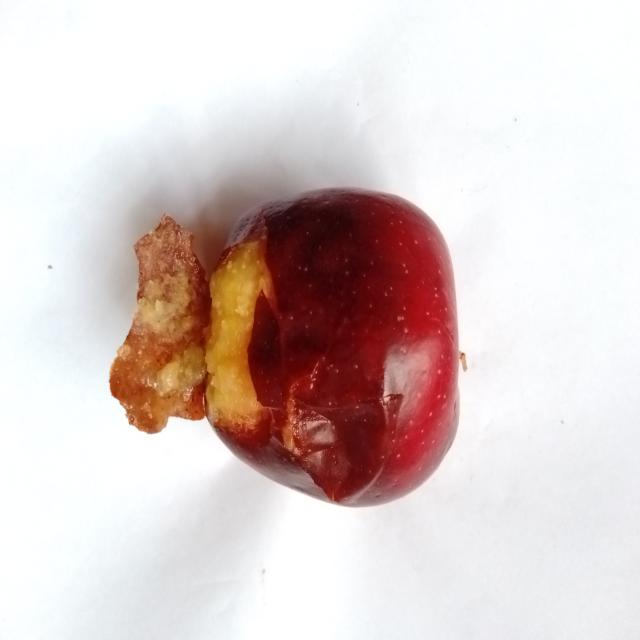apple: (205, 189, 459, 505)
